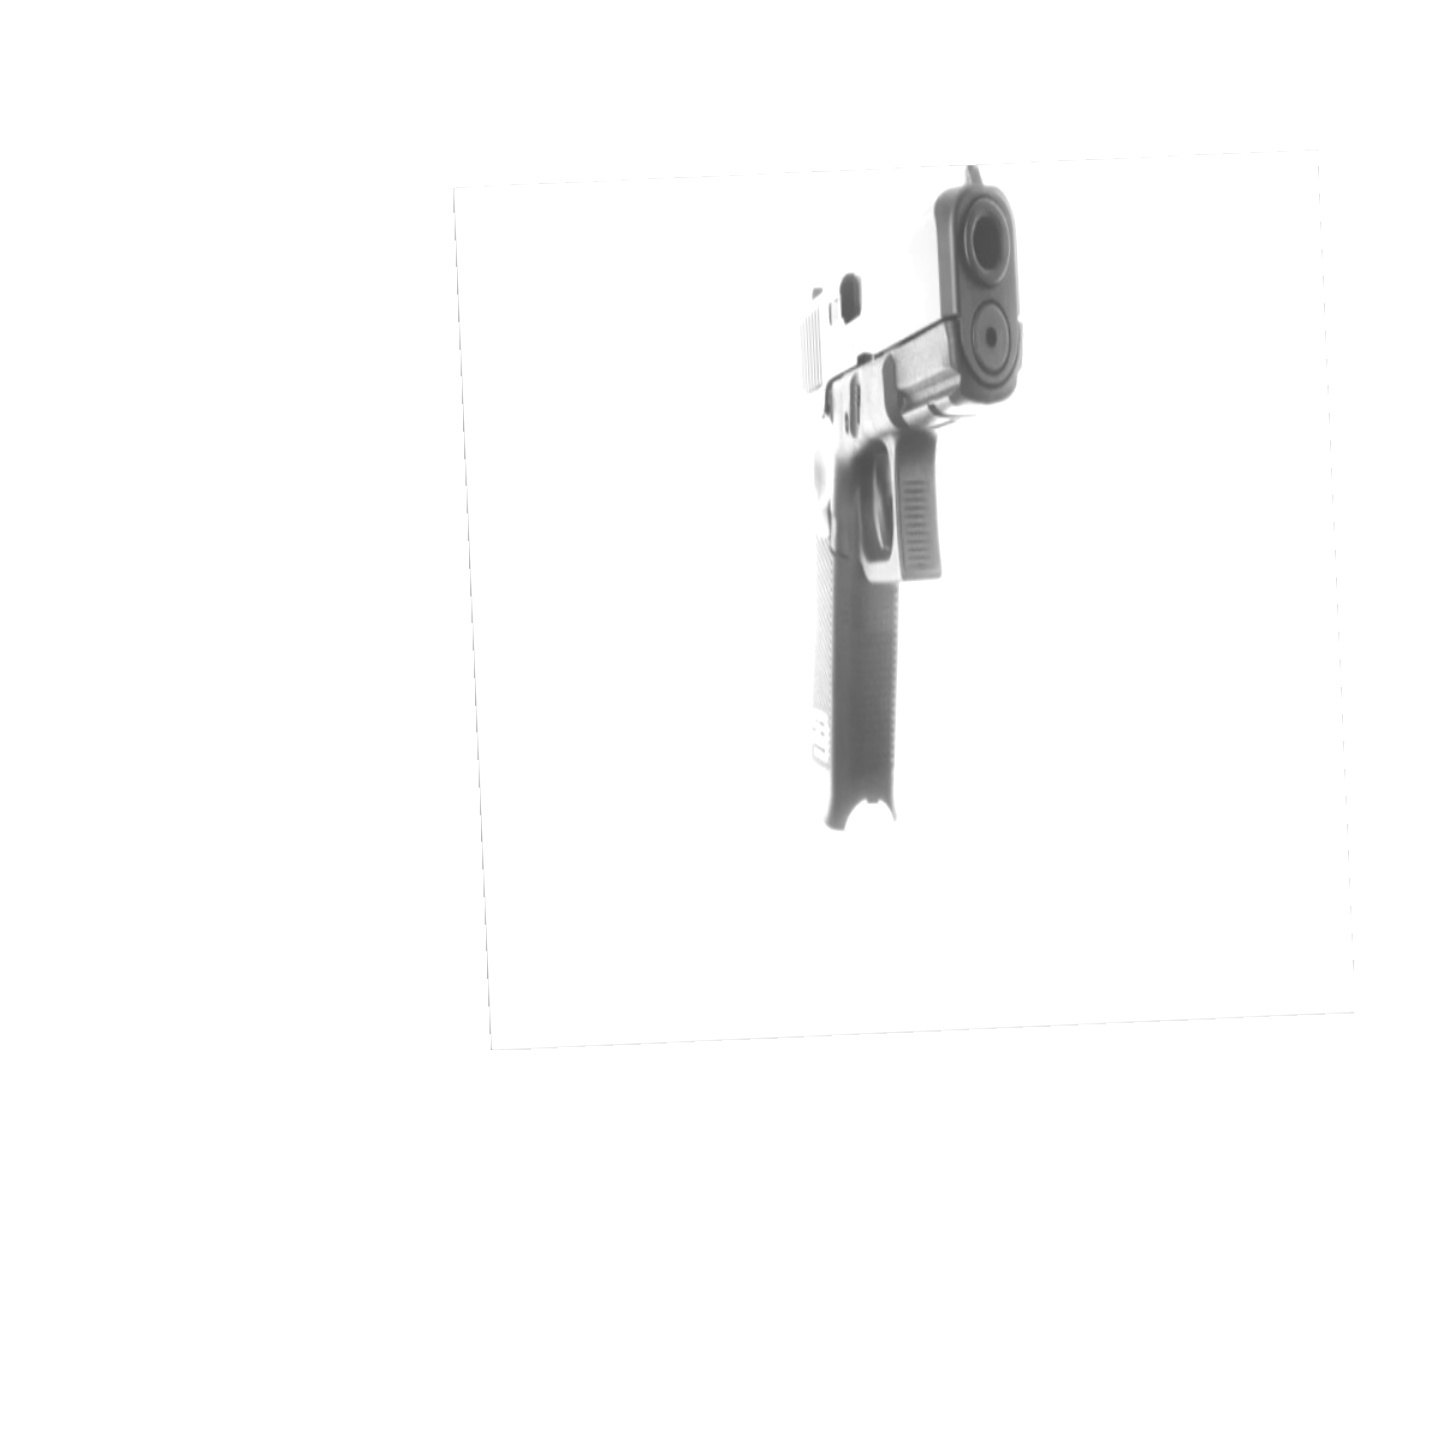gun: (795, 167, 1021, 830)
